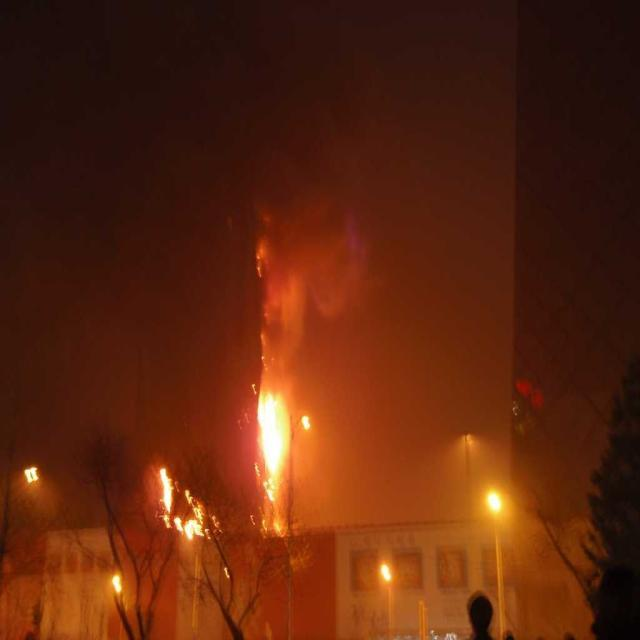Fire: (262, 396, 286, 488)
